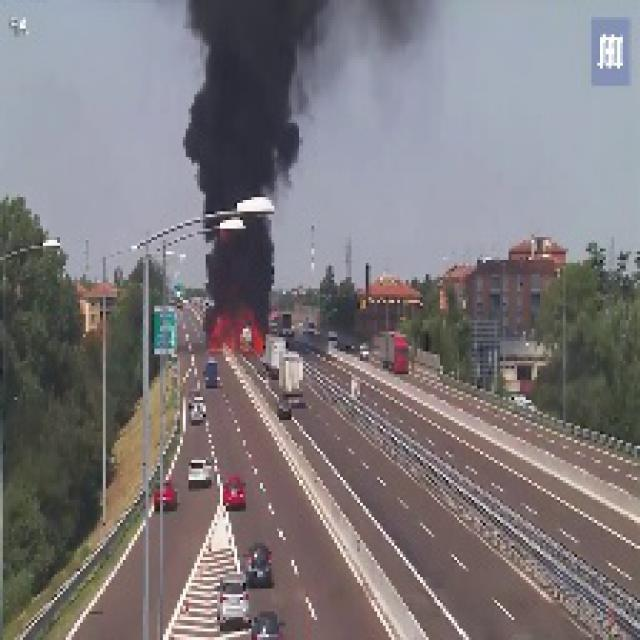fire: (200, 297, 271, 357)
